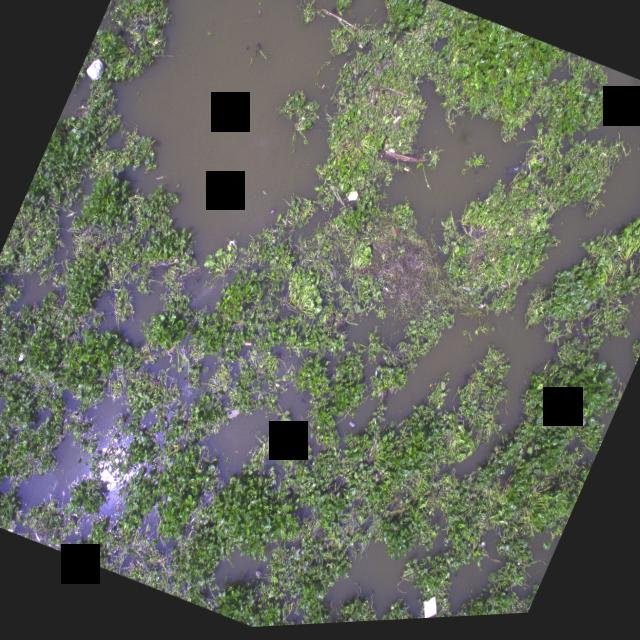plastic: (76, 49, 114, 92), (412, 590, 448, 623), (341, 187, 363, 212), (220, 403, 243, 426), (634, 249, 640, 282), (5, 522, 17, 534)
